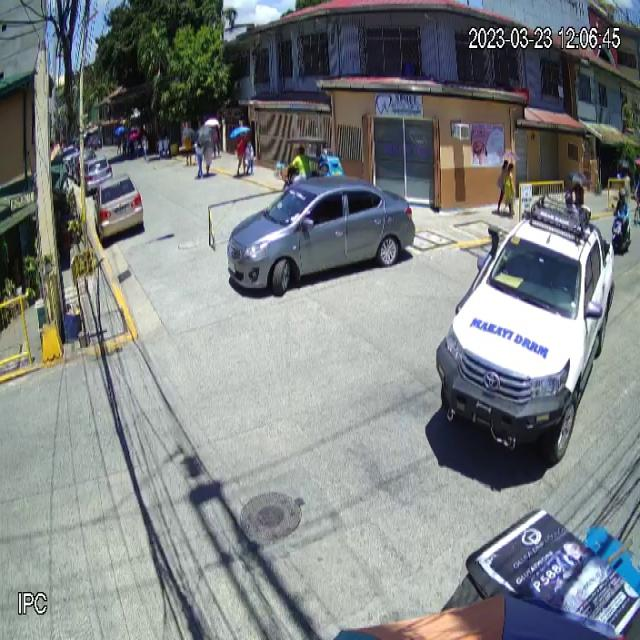Car: (428, 206, 616, 470), (226, 176, 417, 299), (92, 176, 142, 245)
